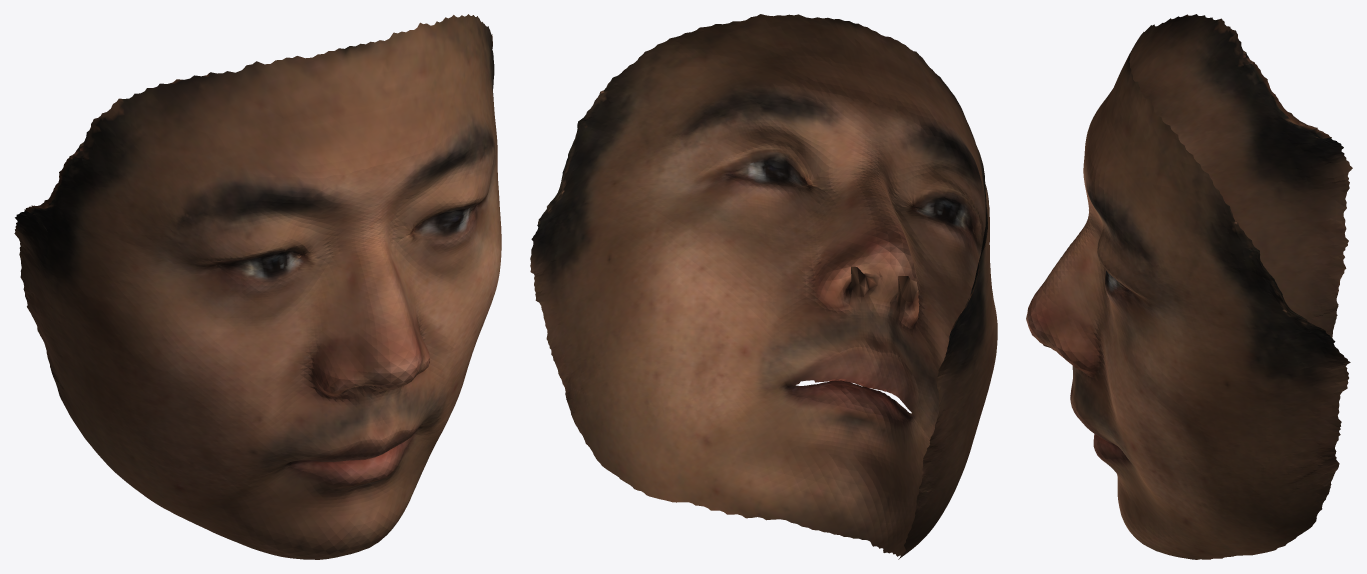
Rendered from predicted_face.obj.
The picture shows the model from 3 angles, left to right: view 1: azimuth 30°, elevation 25°; view 2: azimuth 150°, elevation 25°; view 3: azimuth 270°, elevation 25°; orthographic projection. The views are drawn at different scales.
Bounding box in the file's own units: 1.49 × 1.7 × 1.05.
